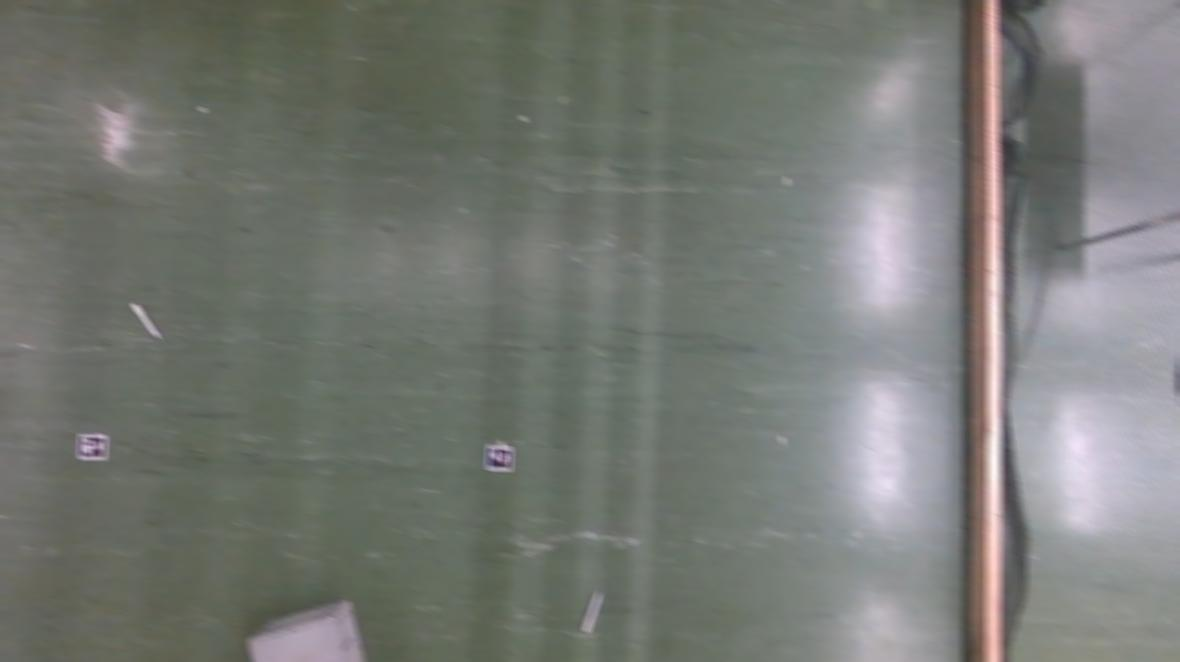probes: (134, 301, 159, 336), (584, 590, 602, 631)
rako: (246, 598, 379, 662)
